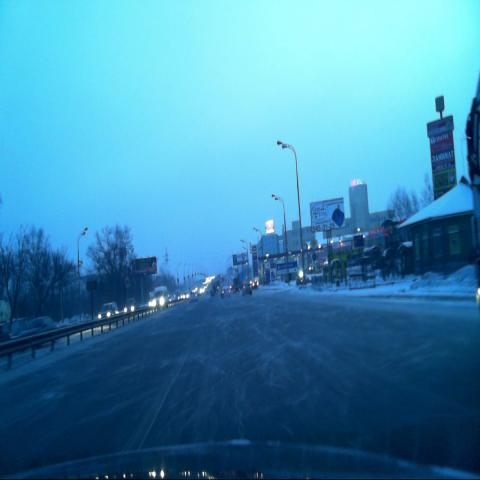2_1: (310, 236, 317, 249)
